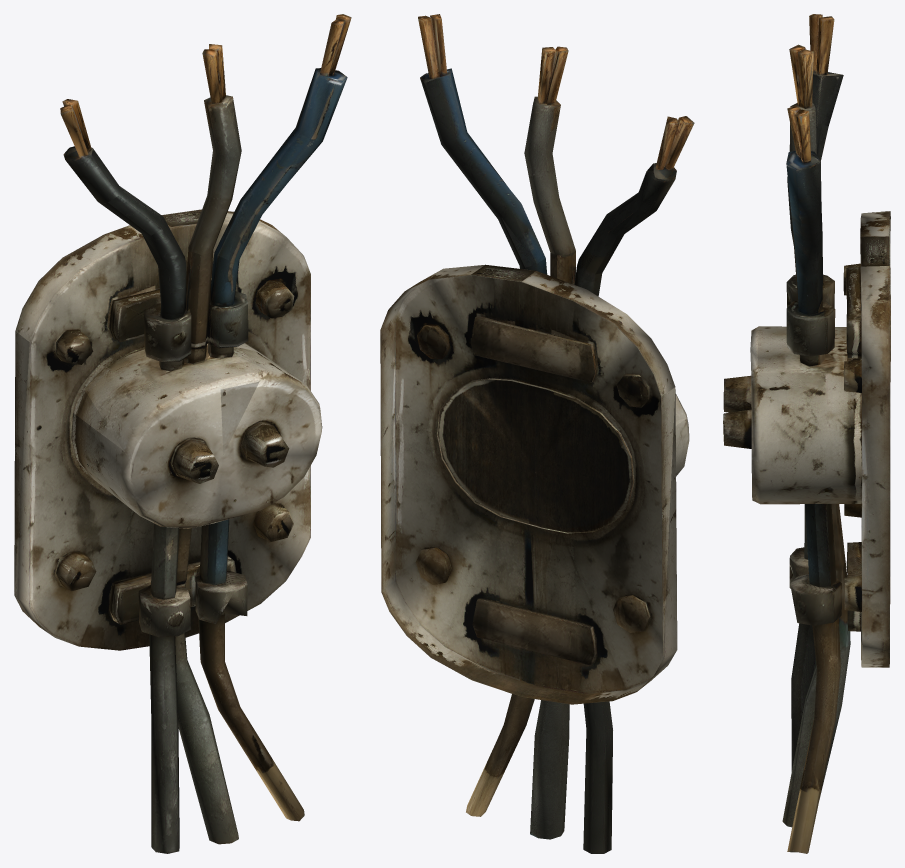
The picture shows the model from 3 angles, left to right: view 1: azimuth 30°, elevation 25°; view 2: azimuth 150°, elevation 25°; view 3: azimuth 270°, elevation 25°; orthographic projection. The views are drawn at different scales.
Visible parts, largest first — view 1: mesh_node; view 2: mesh_node; view 3: mesh_node.
Part boxes in pixels (x1,y1,x2,y2): mesh_node: (14,14,351,853); mesh_node: (380,14,694,853); mesh_node: (723,14,890,853).
Size of the model in its own units: 38.67 by 100 by 19.82.
Materials: 1 (1 with a texture image).
